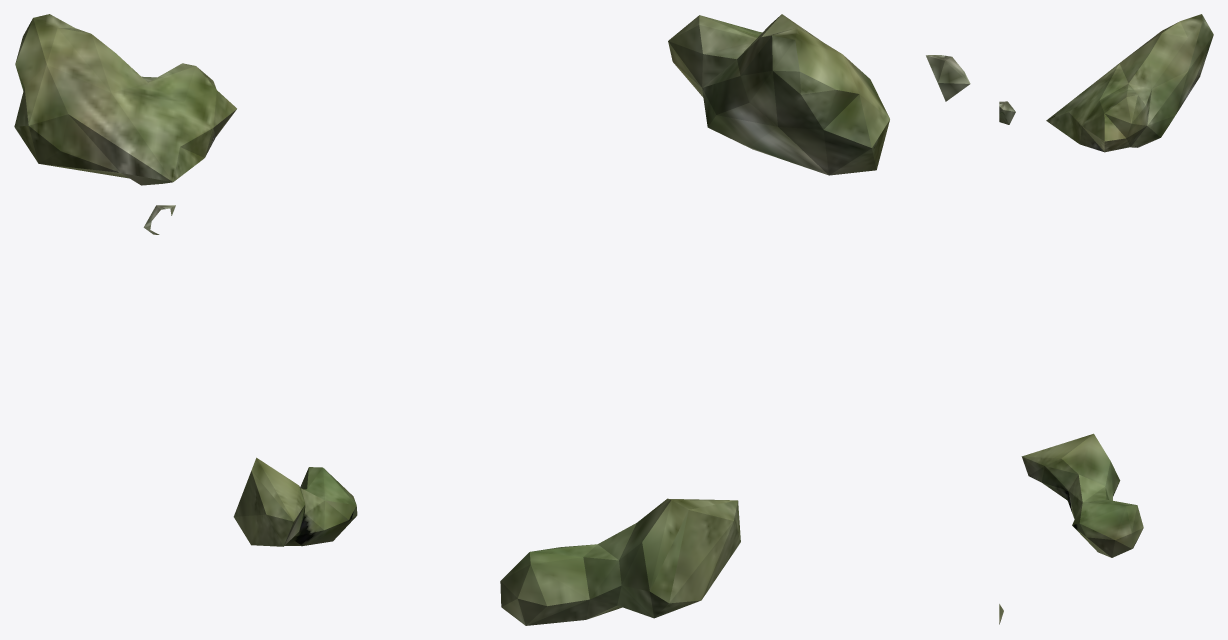
3 renders of one model, left to right at view 1: azimuth 30°, elevation 25°; view 2: azimuth 150°, elevation 25°; view 3: azimuth 270°, elevation 25°, orthographic. The views are drawn at different scales.
Size of the model in its own units: 1.21 by 1.94 by 0.7701.
Materials: 1 (1 with a texture image).
